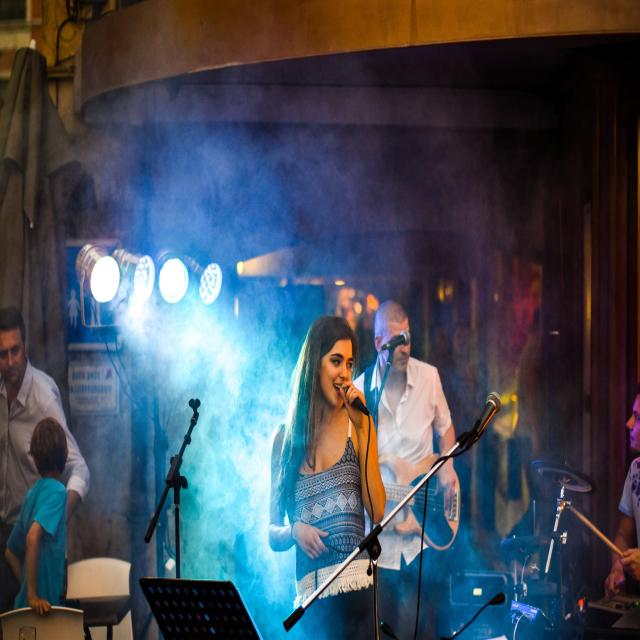adult: (268, 313, 386, 640), (351, 299, 456, 575), (0, 308, 91, 522), (5, 418, 66, 618), (604, 386, 640, 596)
